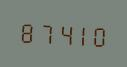eight: (18, 17, 35, 45)
four: (54, 19, 71, 47)
one: (72, 20, 89, 48)
seven: (36, 18, 53, 46)
zero: (90, 21, 107, 49)
